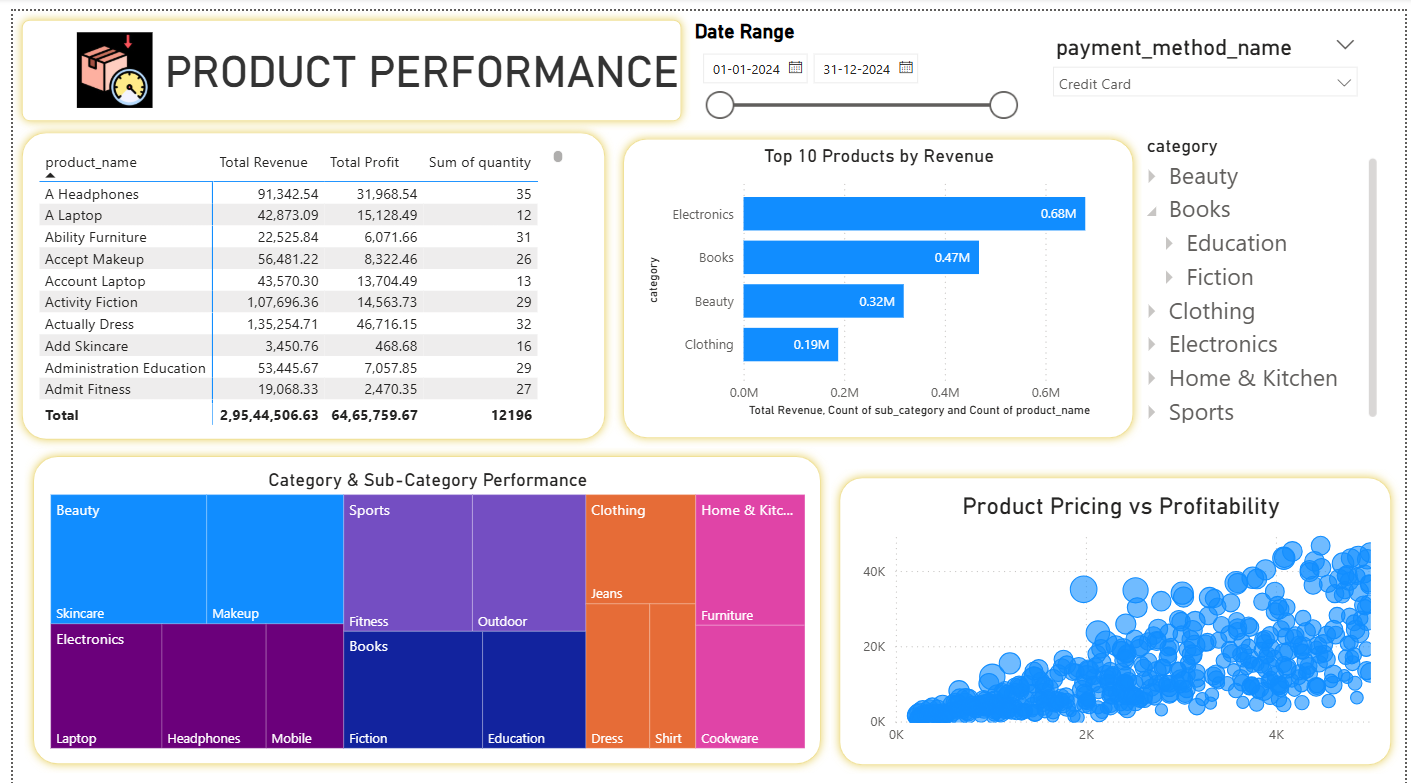

This screenshot's page, from the dashboard's own definition file:
{"tool":"powerbi","page":{"name":"PRODUCT PERFORMANCE","canvas":[1280,720],"ordinal":1},"visuals":[{"type":"textbox","box":[10,0,520,88.6],"z":0},{"type":"barChart","title":"Top 10 Products by Revenue","fields":{"Category":["warehouse dim_products.category"],"Y":["warehouse fact_sales.Total Revenue","CountNonNull(warehouse dim_products.sub_category)","CountNonNull(warehouse dim_products.product_name)"]},"box":[10,88.6,468.6,437.1],"z":1000},{"type":"treemap","title":"Category & Sub-Category Performance","fields":{"Group":["warehouse dim_products.category"],"Details":["warehouse dim_products.sub_category"],"Values":["warehouse fact_sales.Total Revenue"]},"box":[435.7,88.6,410,368.6],"z":2000},{"type":"scatterChart","title":"Price vs Profit Analysis","fields":{"X":["warehouse dim_products.price_range"],"Y":["warehouse fact_sales.Total Profit"],"Size":["warehouse fact_sales.Total Revenue"],"Series":["warehouse dim_products.product_name"]},"box":[10,331.4,468.6,388.6],"z":3000},{"type":"pivotTable","fields":{"Rows":["warehouse dim_products.product_name"],"Values":["warehouse fact_sales.Total Revenue","warehouse fact_sales.Total Profit","Sum(warehouse fact_sales.quantity)"]},"box":[592.9,485.7,358.6,234.3],"z":4000},{"type":"slicer","title":"State","fields":{"Values":["warehouse dim_customers.state"]},"box":[817.1,11.4,167.1,278.6],"z":5000},{"type":"slicer","title":"Product Category","fields":{"Values":["warehouse dim_products.category"]},"box":[1037.1,64.3,214.3,258.6],"z":6000},{"type":"slicer","title":"Payment Method","fields":{"Values":["warehouse dim_payment_method.payment_method_name"]},"box":[1037,323,214,236],"z":7000},{"type":"slicer","title":"Date Range","fields":{"Values":["warehouse dim_date.full_date"]},"box":[630,558.6,372.9,141.4],"z":8000}]}

Visuals, with their boxes in screenshot pixels (x1, y1, x2, y2), scaled from the page's 1280x720 canvas onto the 1411x783 screenshot:
textbox: BBox(11, 0, 584, 96)
"Top 10 Products by Revenue" barChart: BBox(11, 96, 528, 572)
"Category & Sub-Category Performance" treemap: BBox(480, 96, 932, 497)
"Price vs Profit Analysis" scatterChart: BBox(11, 360, 528, 782)
pivotTable - warehouse dim_products.product_name x warehouse fact_sales.Total Revenue: BBox(654, 528, 1049, 782)
"State" slicer: BBox(901, 12, 1085, 315)
"Product Category" slicer: BBox(1143, 70, 1379, 351)
"Payment Method" slicer: BBox(1143, 351, 1379, 608)
"Date Range" slicer: BBox(694, 607, 1106, 761)
